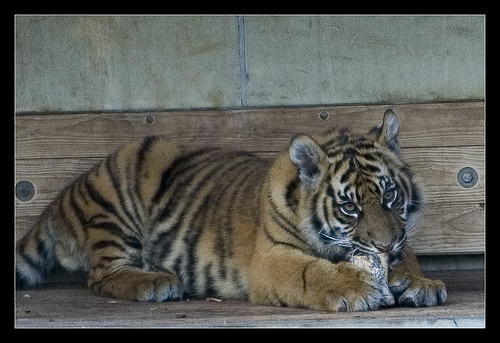Tigre: (37, 126, 457, 316)
